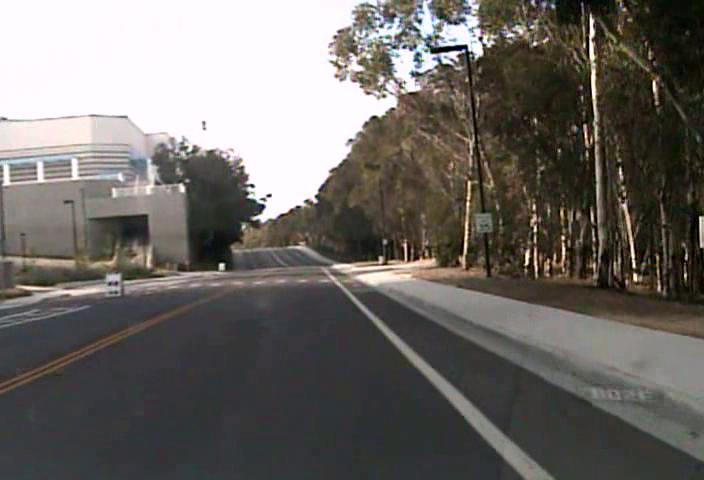speedLimit35: (474, 212, 493, 233)
